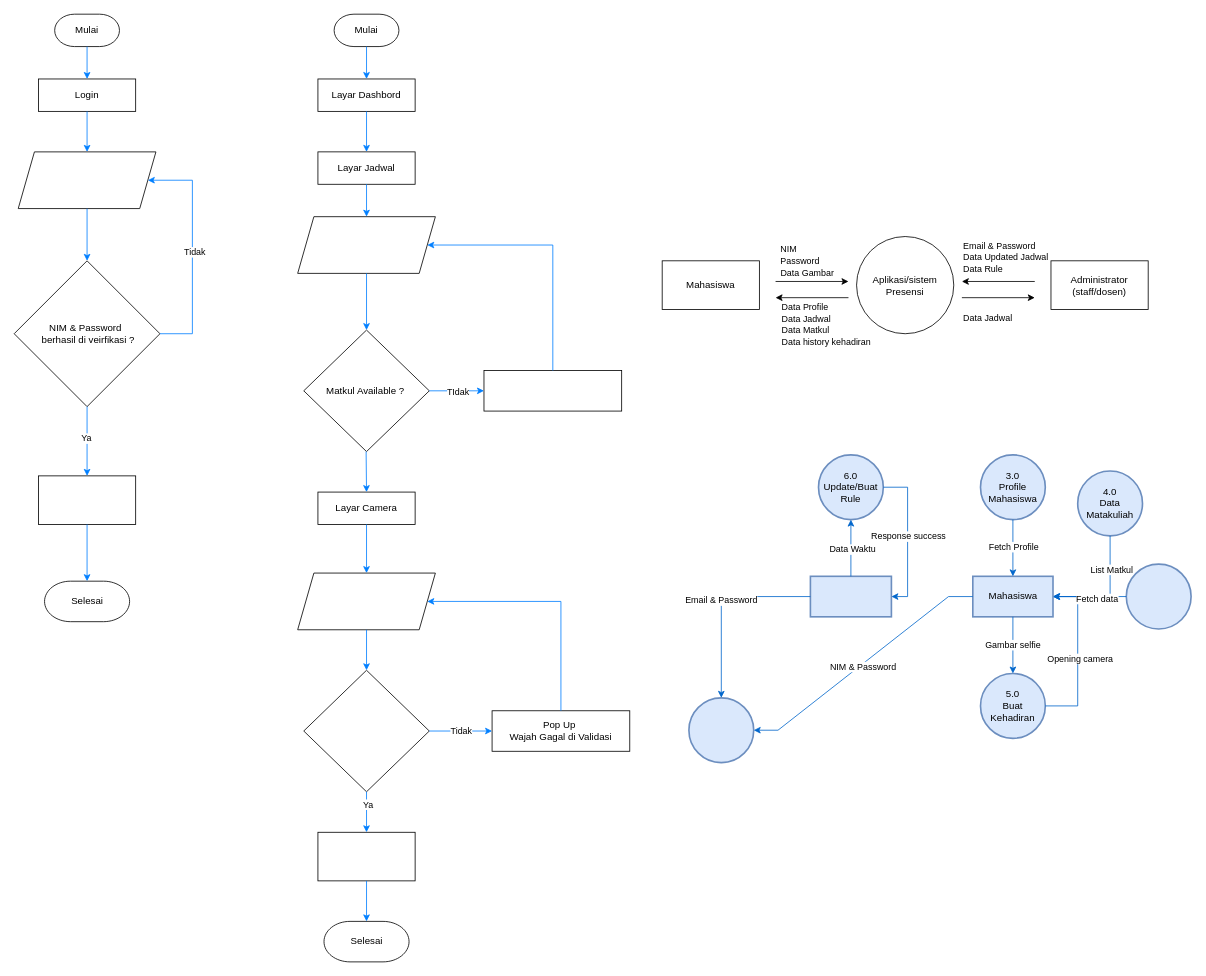
Image size: 1206x976. Some labels were removed from this diagram. Here are the shapes that lost their labels. From the top down, the box of each, then its label:
(17, 151, 156, 209): Input Nomor Induk Hahasiswa Password
(297, 216, 435, 273): Pilih Matkul
(483, 370, 622, 411): Pop Up Kelas Tidak Available
(38, 475, 136, 524): Layar Dashboard/Home
(297, 572, 435, 630): Ambil Foto Selfi
(809, 575, 892, 617): Adiminstrator
(1125, 563, 1192, 629): 2.0 Data Mahasiswa
(303, 669, 429, 792): Wajah Berhasil di Validasi ?
(688, 697, 754, 763): 1.0 Login
(317, 831, 415, 881): Layar Berhasil Presensi
